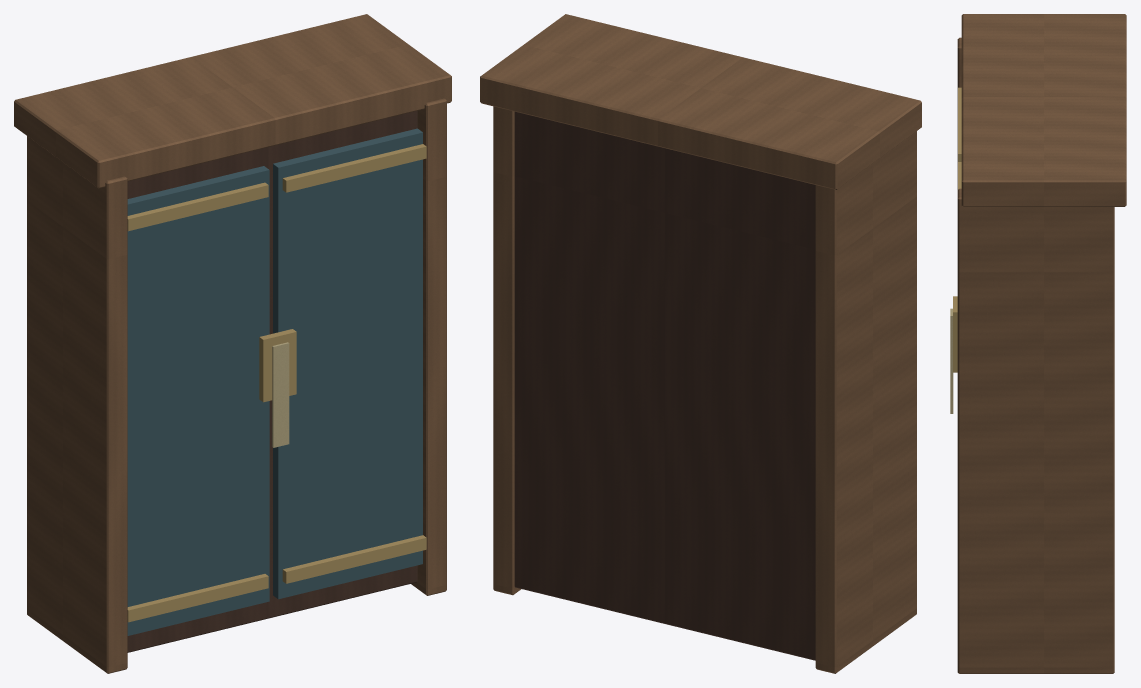
Rendered from sealed_cabinet.glb.
3 renders of one model, left to right at view 1: azimuth 30°, elevation 25°; view 2: azimuth 150°, elevation 25°; view 3: azimuth 270°, elevation 25°, orthographic. The views are drawn at different scales.
Visible parts, largest first — view 1: Scripture_Indigo, Scripture_CarvedWood, Scripture_Timber, Scripture_Bronze, Scripture_Paper; view 2: Scripture_Timber, Scripture_CarvedWood; view 3: Scripture_CarvedWood, Scripture_Bronze, Scripture_Paper.
Part boxes in pixels (x1,y1,x2,y2): Scripture_Indigo: (127,128,422,635); Scripture_CarvedWood: (14,14,451,673); Scripture_Timber: (127,110,417,652); Scripture_Bronze: (127,144,426,622); Scripture_Paper: (272,342,289,447); Scripture_Timber: (514,111,815,660); Scripture_CarvedWood: (480,14,921,673); Scripture_CarvedWood: (957,14,1126,673); Scripture_Bronze: (953,87,961,372); Scripture_Paper: (950,308,953,413).
Size of the model in its own units: 2.02 by 2.8 by 0.8975.
5 materials, 3 textured.
